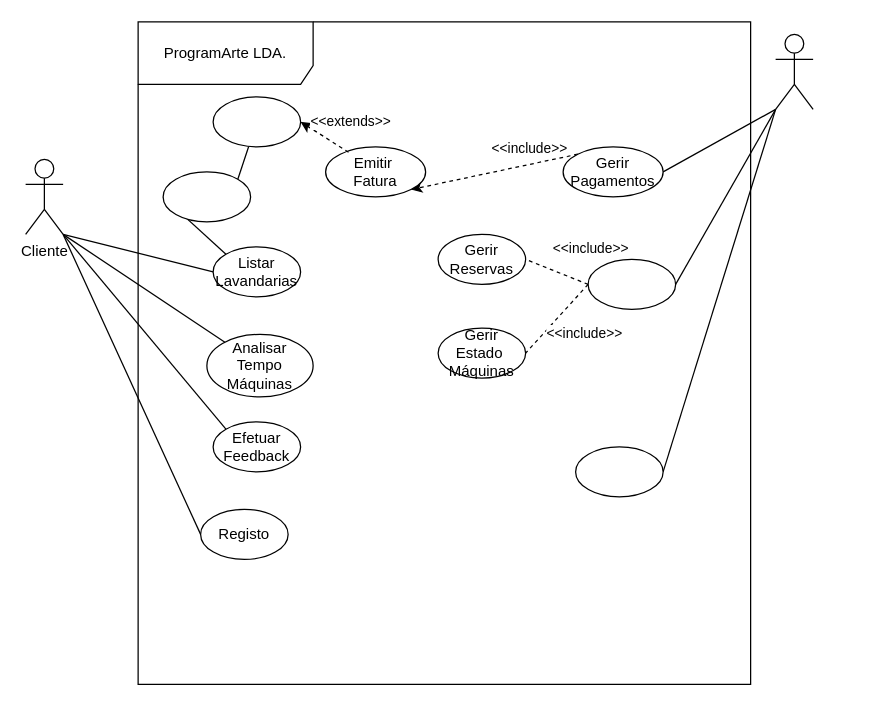
Some shapes in this 874 by 706 pixel diagram are drawn without their labels. The shapes that lost their labels are listed below. From the top down, each one's centre as x and y in pixels, then its label:
pixel 793 71: Sr. Arménio Puga
pixel 256 121: Pagamentos
pixel 206 196: Reservar Maquina
pixel 631 283: Consultar Lavandarias
pixel 618 471: Consultar Feedback
